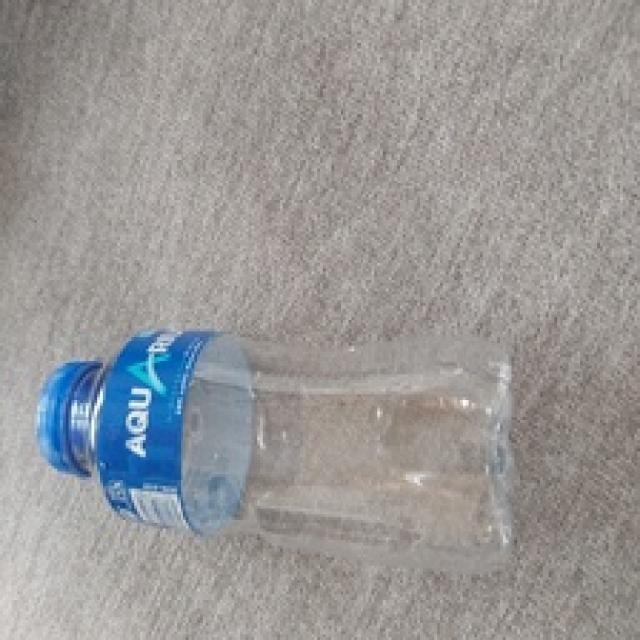Plastic: (33, 326, 520, 578)
